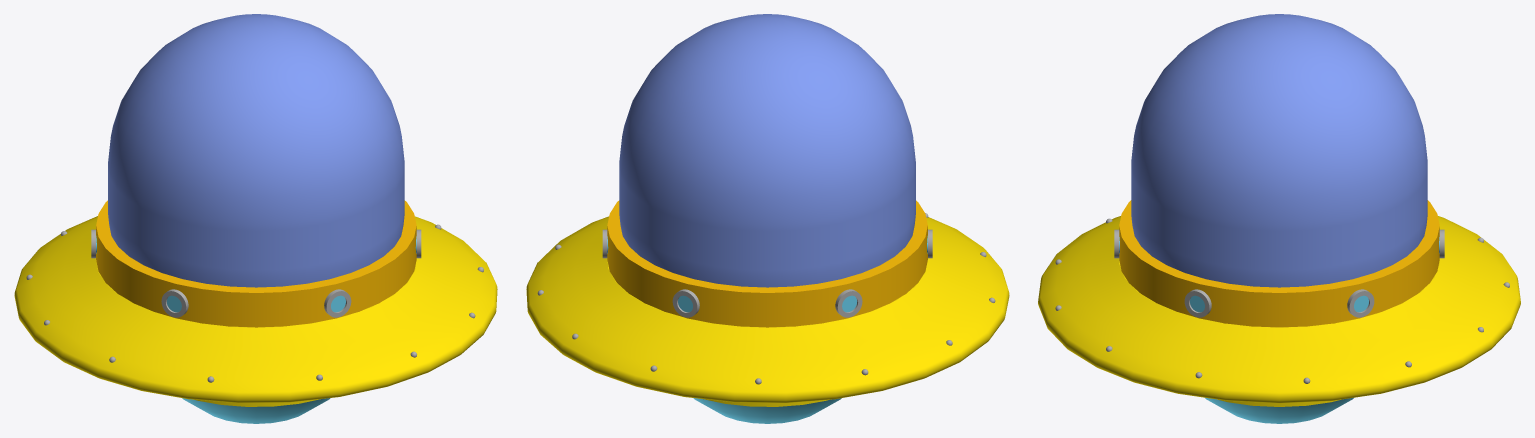
File: ufo_cam.gltf
The picture shows the model from 3 angles, left to right: view 1: azimuth 30°, elevation 25°; view 2: azimuth 150°, elevation 25°; view 3: azimuth 270°, elevation 25°; orthographic projection.
Parts seen in each view (by area): view 1: Capsule_2, Loft, Tube, Sphere; view 2: Capsule_2, Loft, Tube, Sphere; view 3: Capsule_2, Loft, Tube, Sphere.
Boxes of the visible parts, x1,y1,x2,y2 form: Capsule_2: (108,14,404,287); Loft: (14,216,497,406); Tube: (96,200,416,327); Sphere: (182,398,330,423); Capsule_2: (619,14,915,287); Loft: (526,216,1009,406); Tube: (607,200,927,327); Sphere: (693,398,841,423); Capsule_2: (1131,14,1427,287); Loft: (1038,216,1520,406); Tube: (1119,200,1439,327); Sphere: (1205,397,1353,423).
Size of the model in its own units: 2.02 by 1.78 by 2.02.
